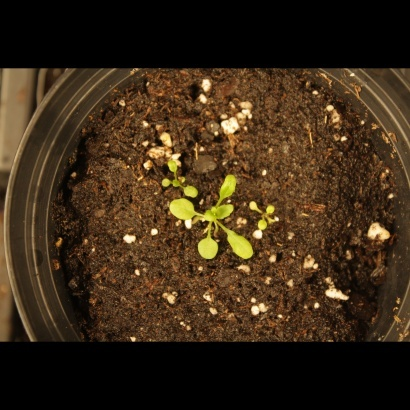leaf: (220, 229, 255, 265), (193, 232, 225, 265), (167, 196, 199, 224), (215, 171, 243, 203), (161, 151, 184, 174), (181, 177, 204, 200), (152, 176, 175, 199), (214, 203, 237, 226), (256, 221, 279, 244), (261, 197, 284, 220), (239, 194, 262, 217)
